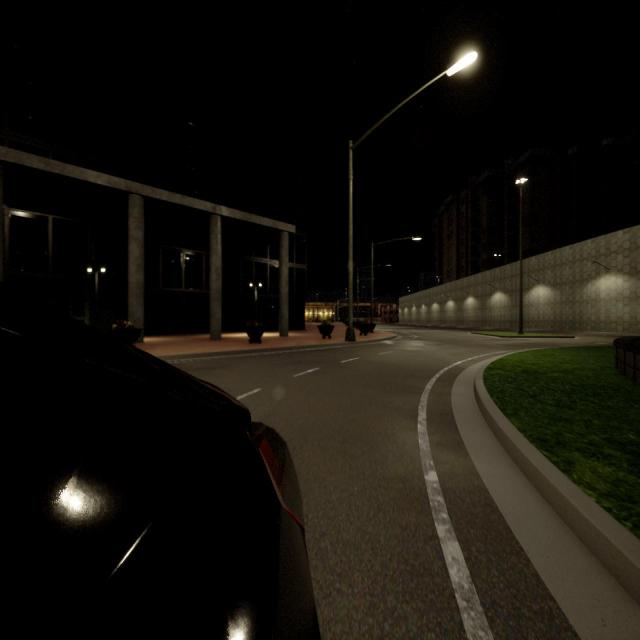Vehicle: (0, 320, 317, 638)
